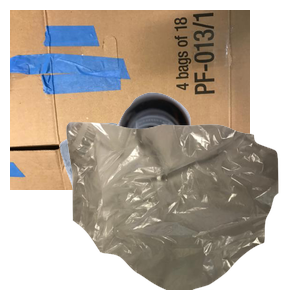cardboard: (10, 10, 250, 190)
glass: (115, 90, 300, 270)
plastic: (57, 120, 284, 300)
trash: (64, 120, 300, 300)
